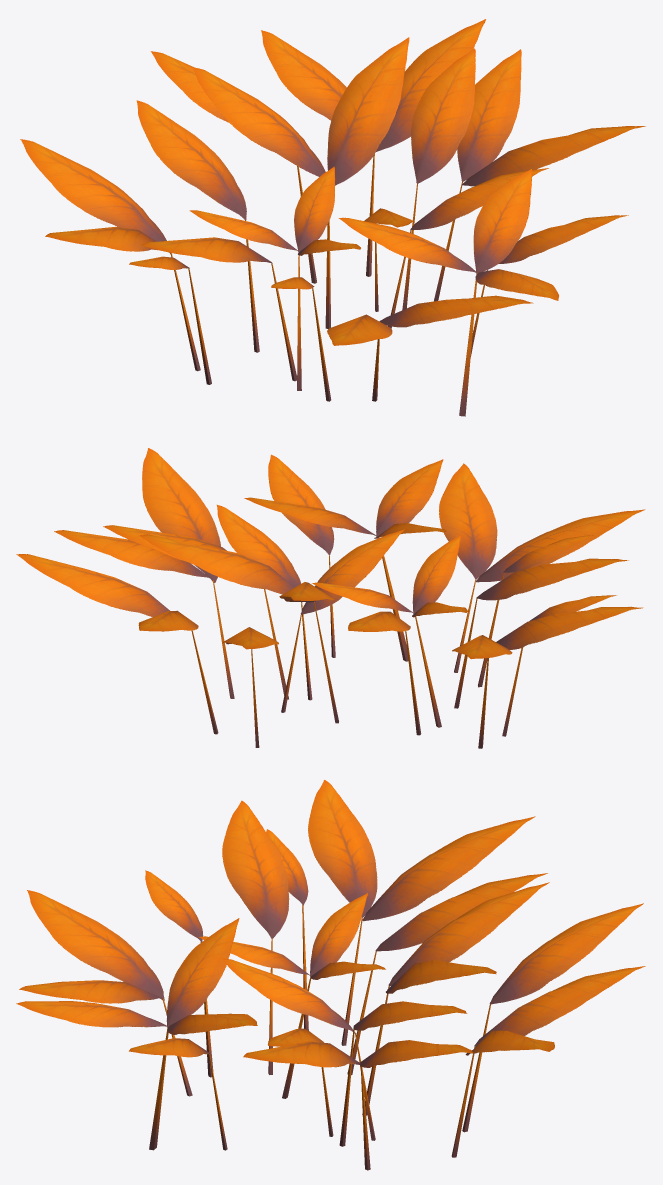
Rendered from nature_plant_3.glb.
3 renders of one model, top to bottom at view 1: azimuth 30°, elevation 25°; view 2: azimuth 150°, elevation 25°; view 3: azimuth 270°, elevation 25°, orthographic. The views are drawn at different scales.
Visible parts, largest first — view 1: nature_plant_3; view 2: nature_plant_3; view 3: nature_plant_3.
Part boxes in pixels (bbox=[...]): nature_plant_3: bbox=[20, 19, 645, 416]; nature_plant_3: bbox=[16, 448, 645, 748]; nature_plant_3: bbox=[16, 780, 645, 1170].
Size of the model in its own units: 184 by 70.66 by 174.
1 material, 1 textured.
